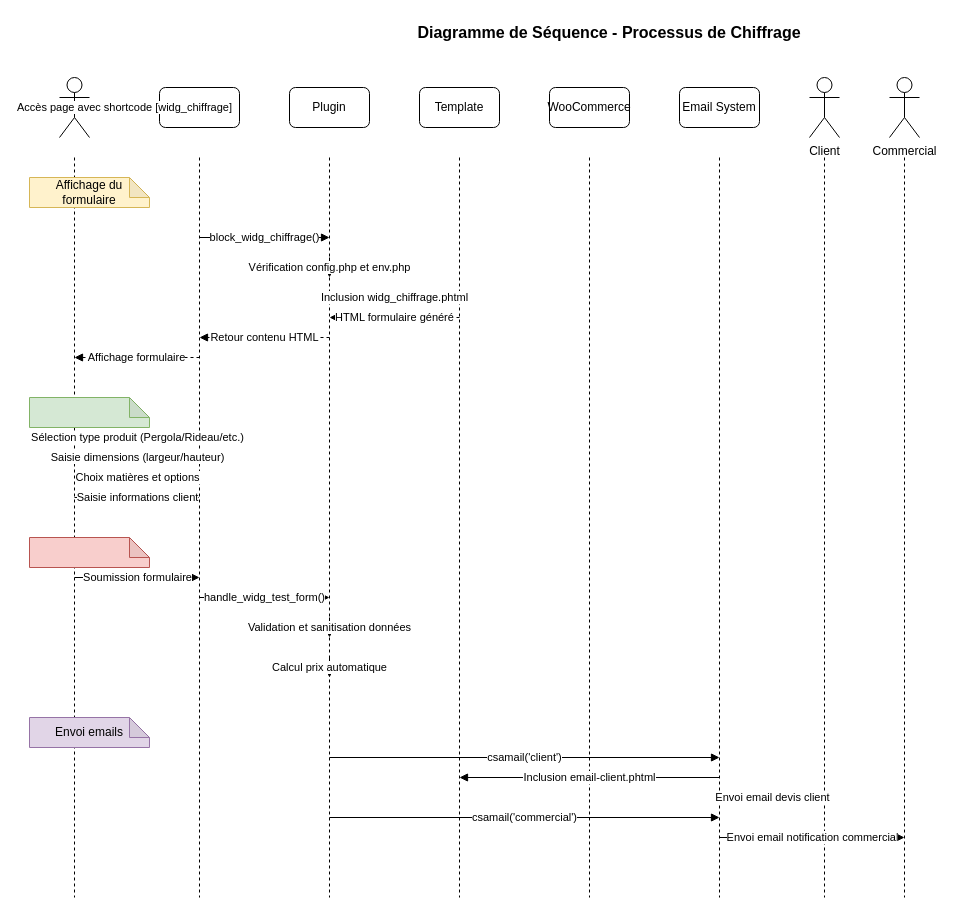
This 954x916 diagram has some shape labels left out. The shapes that lost their labels are listed below. From the top down, each one's centre as x and y in pixels, then its label:
At point 74,107: "Visiteur".
At point 89,412: "Configuration produit".
At point 89,552: "Soumission et traitement".
